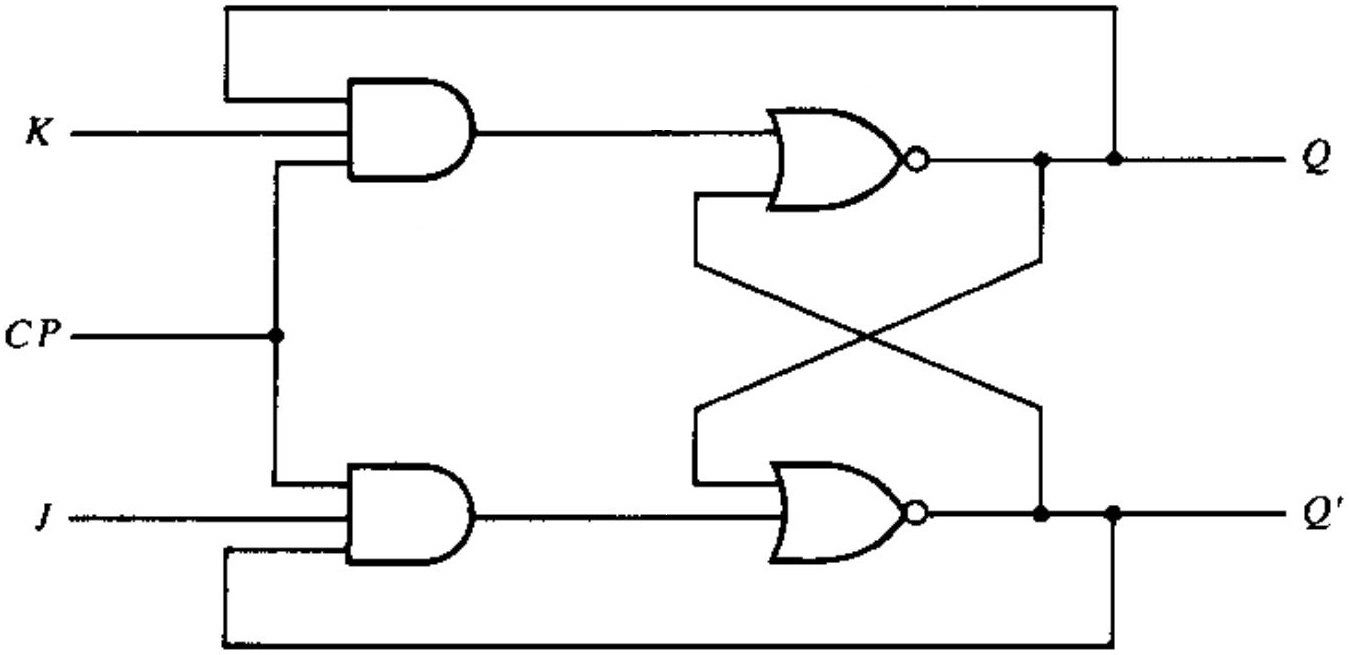and: (328, 447, 484, 578), (329, 64, 483, 194)
or: (748, 95, 942, 222), (756, 445, 940, 576)
